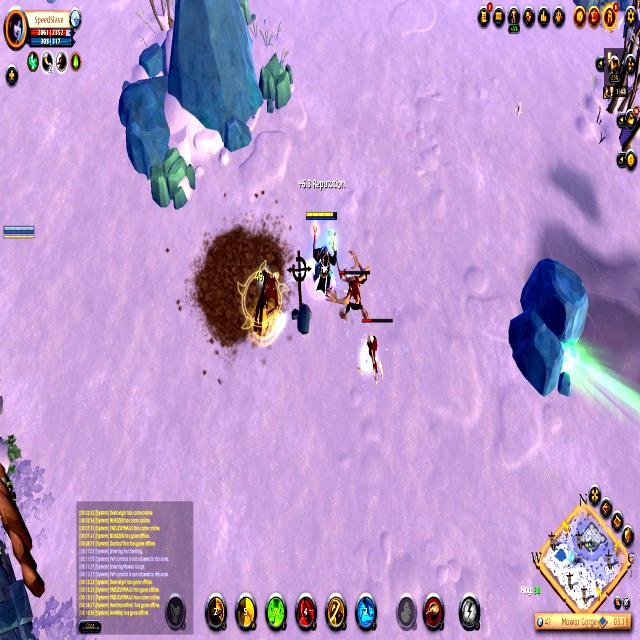ore: (244, 252, 288, 348), (337, 256, 372, 322)
red: (302, 206, 340, 300), (360, 314, 393, 387), (1, 219, 36, 244)
tree: (144, 144, 203, 211), (252, 51, 295, 117)
